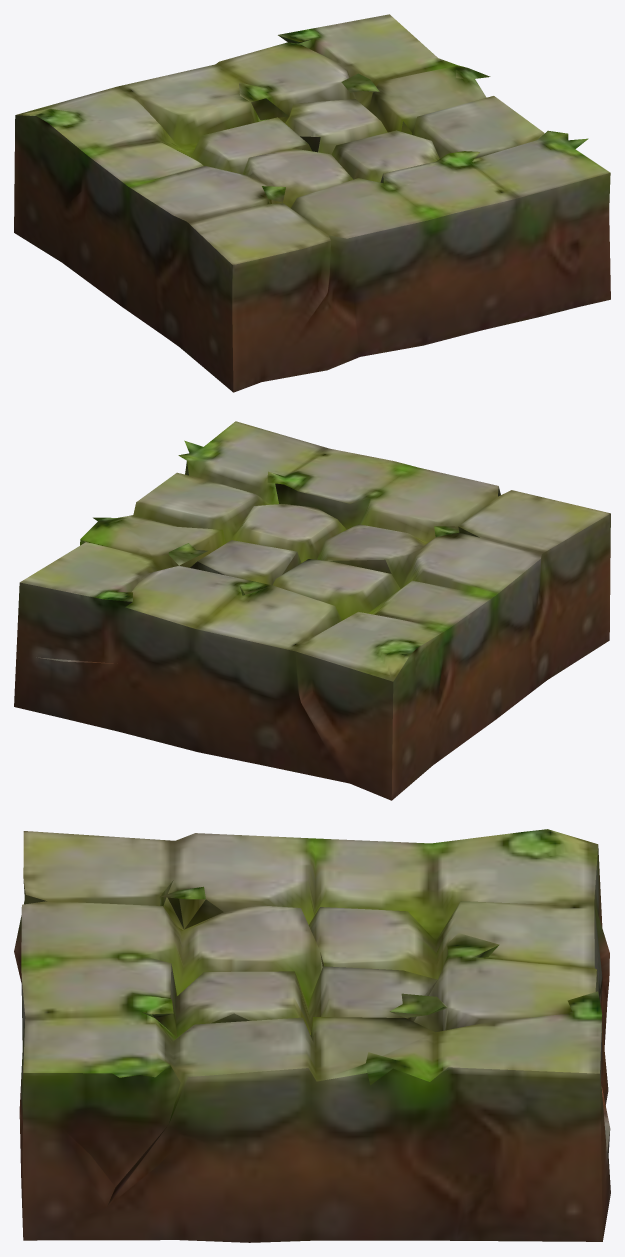
The model's file is b_racines_sol_1.glb.
The picture shows the model from 3 angles, top to bottom: view 1: azimuth 30°, elevation 25°; view 2: azimuth 150°, elevation 25°; view 3: azimuth 270°, elevation 25°; orthographic projection. The views are drawn at different scales.
Visible parts, largest first — view 1: geometry_0; view 2: geometry_0; view 3: geometry_0.
Boxes of the visible parts, x1,y1,x2,y2 form: geometry_0: (14,14,610,392); geometry_0: (14,421,610,800); geometry_0: (14,829,610,1242).
Bounding box in the file's own units: 1 × 0.3288 × 1.
1 material, 1 textured.
